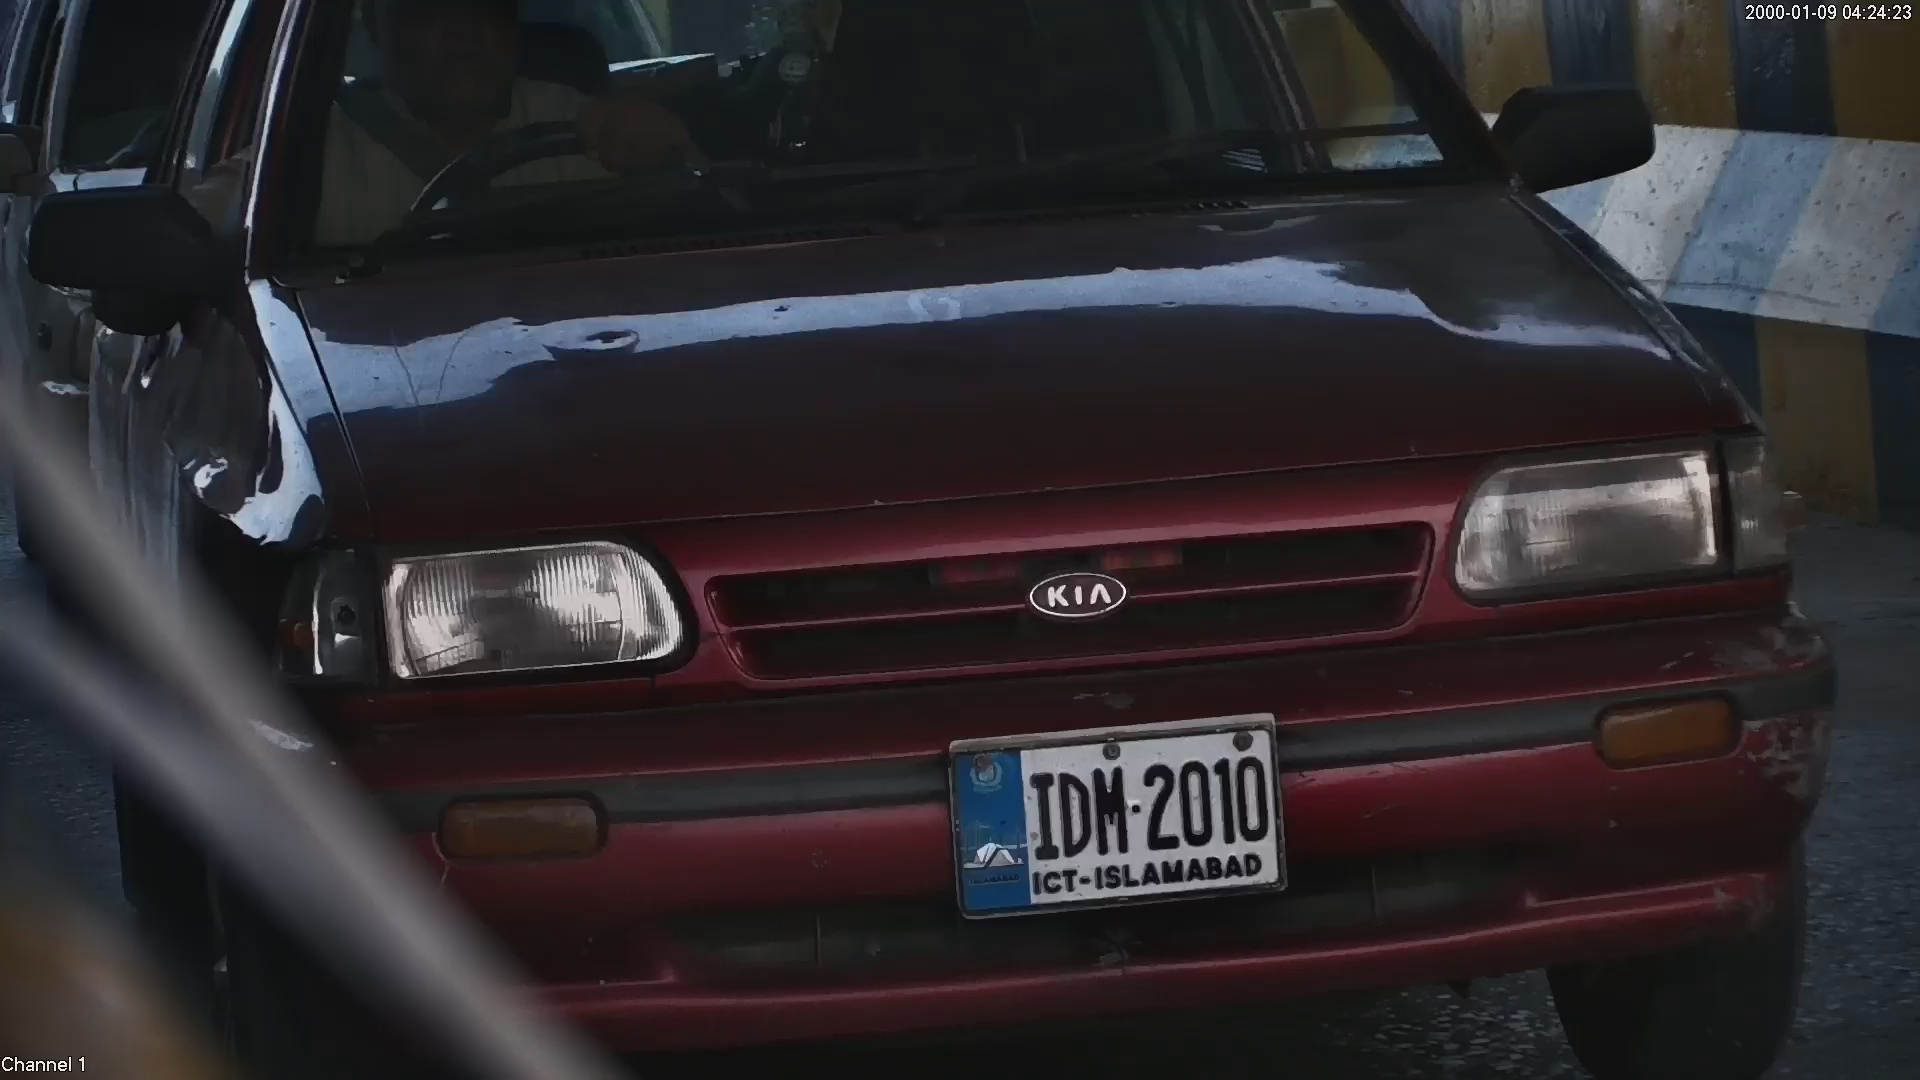Number_Plate: (939, 725, 1310, 916)
